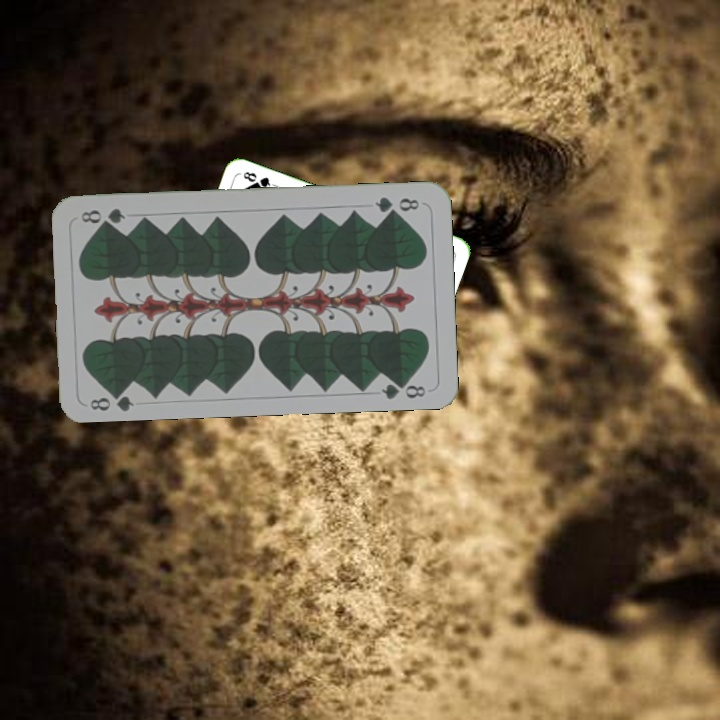G8: (86, 385, 136, 413), (371, 192, 422, 216)
